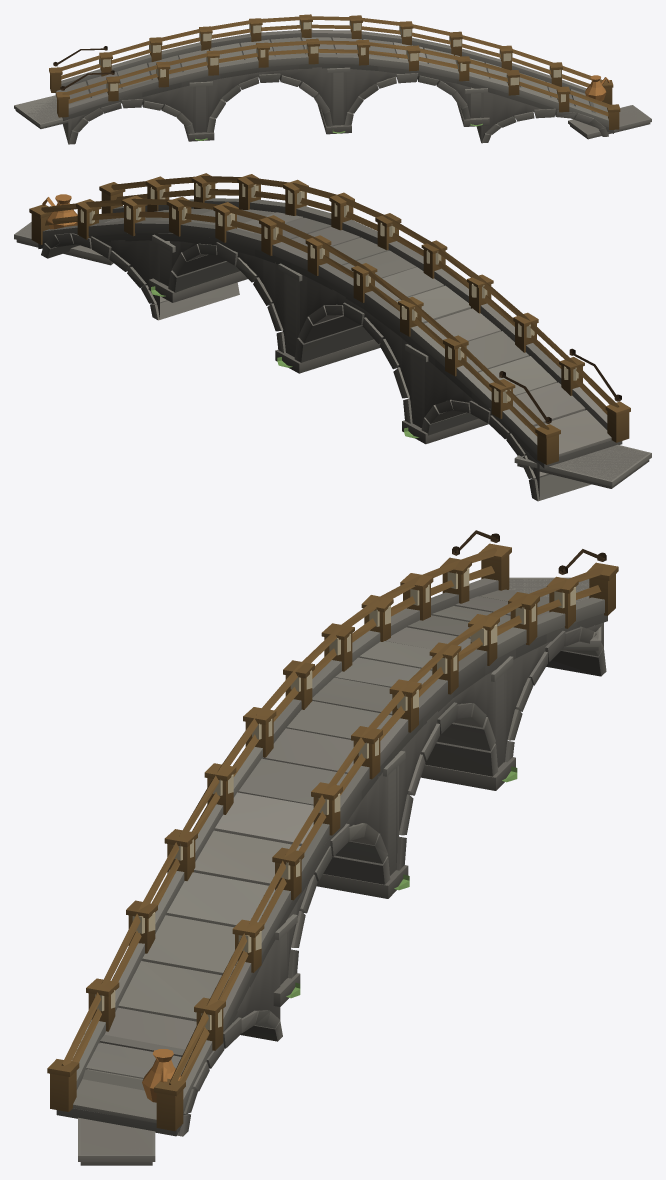
The model's file is vishwamitra.glb.
3 renders of one model, top to bottom at view 1: azimuth 30°, elevation 25°; view 2: azimuth 150°, elevation 25°; view 3: azimuth 270°, elevation 25°, orthographic. The views are drawn at different scales.
Parts seen in each view (by area): view 1: bridge-vishwamitra; view 2: bridge-vishwamitra; view 3: bridge-vishwamitra.
Boxes of the visible parts, left/top/right/bottom form: bridge-vishwamitra: left=14, top=14, right=651, bottom=144; bridge-vishwamitra: left=14, top=173, right=651, bottom=501; bridge-vishwamitra: left=47, top=530, right=618, bottom=1165.
Size of the model in its own units: 3.44 by 0.7305 by 1.68.
